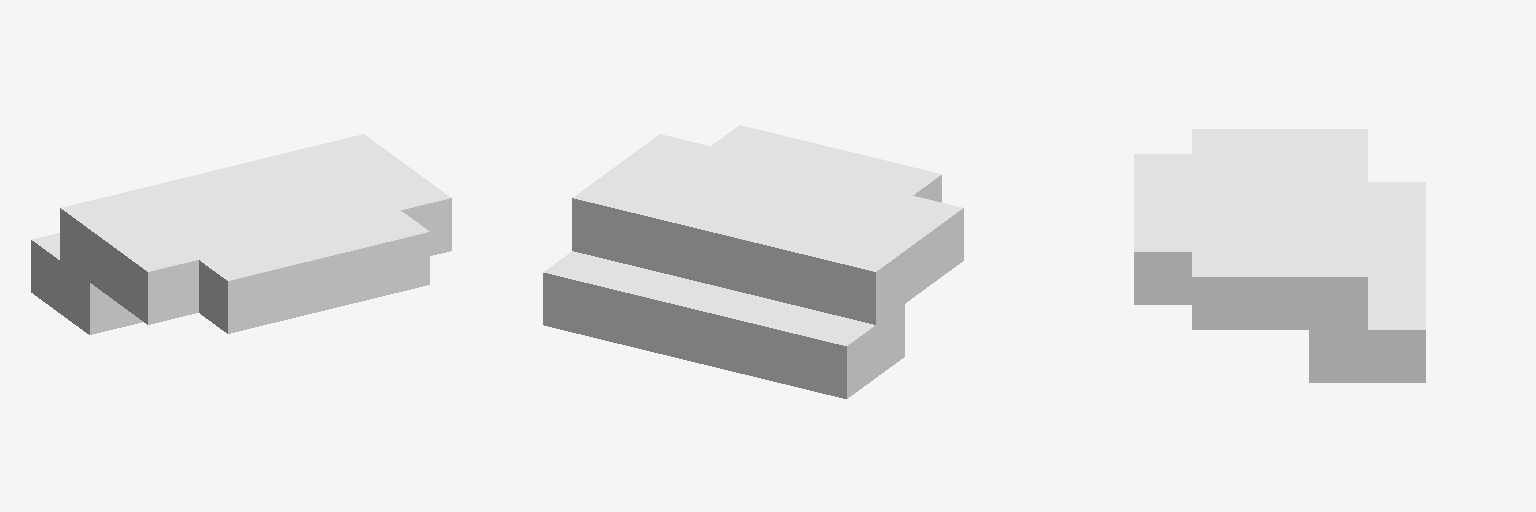
File: Large_greenguy-0.obj
3 renders of one model, left to right at view 1: azimuth 30°, elevation 25°; view 2: azimuth 150°, elevation 25°; view 3: azimuth 270°, elevation 25°, orthographic.
Parts seen in each view (by area): view 1: object 1; view 2: object 1; view 3: object 1.
Part boxes in pixels (left/top/right/bottom): object 1: left=31, top=134, right=451, bottom=334; object 1: left=543, top=125, right=963, bottom=398; object 1: left=1134, top=129, right=1425, bottom=382.
Bounding box in the file's own units: 0.6 × 0.2 × 0.5.